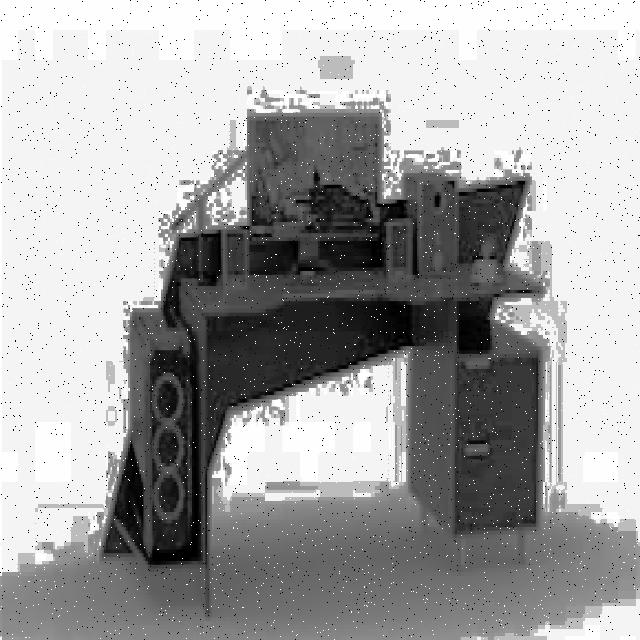table: (174, 260, 543, 614)
